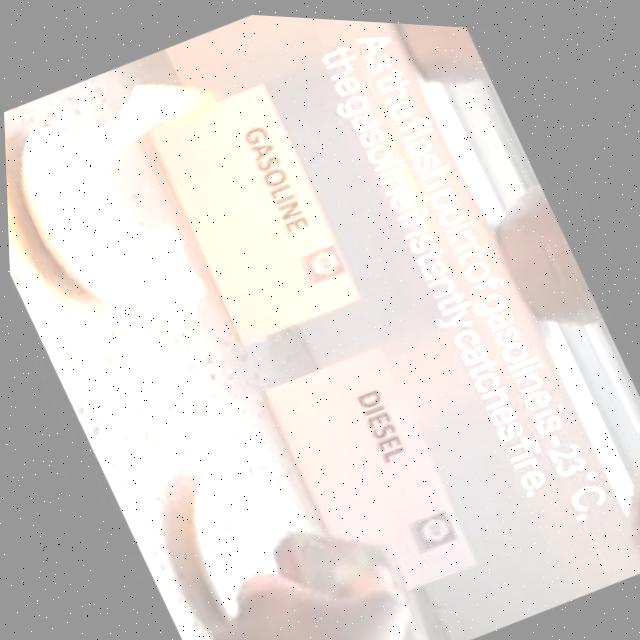Fire: (1, 40, 303, 354)
